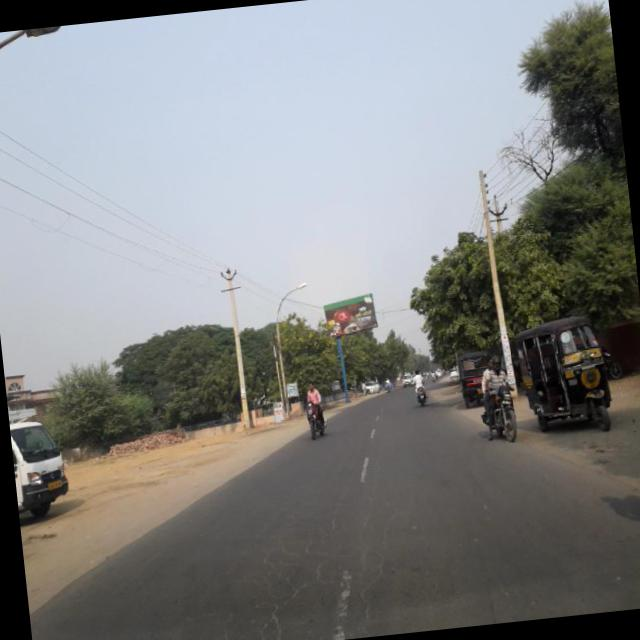crack: (217, 486, 407, 640)
